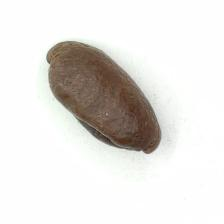NG: (73, 111, 143, 155)
